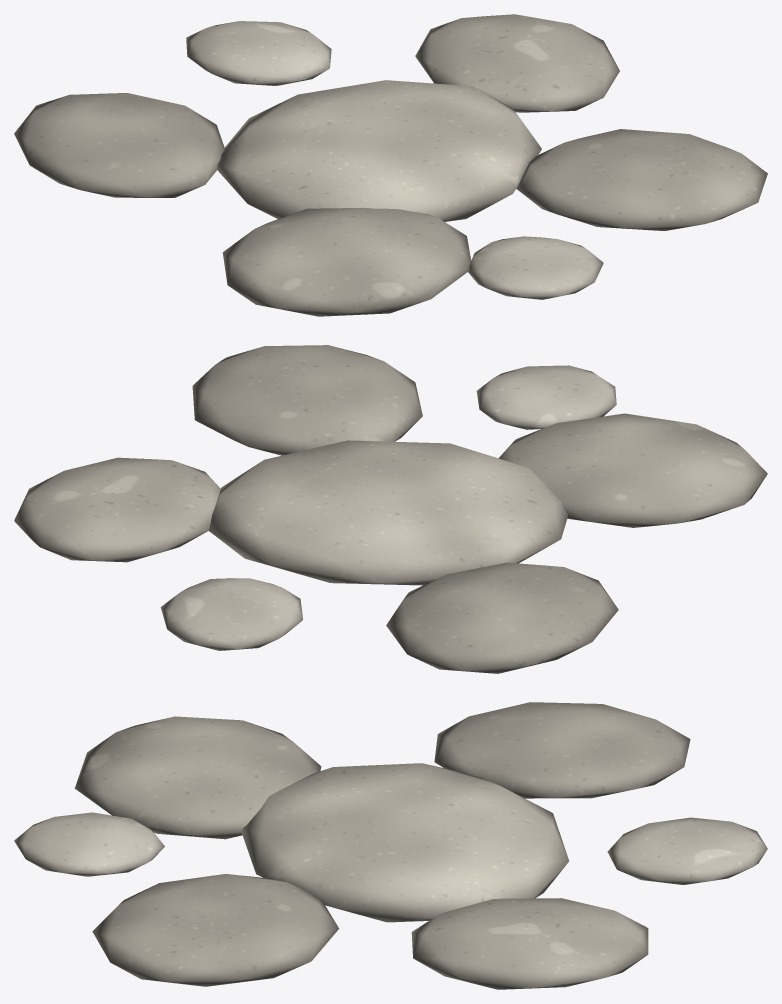
The model's file is stone_path.glb.
3 renders of one model, top to bottom at view 1: azimuth 30°, elevation 25°; view 2: azimuth 150°, elevation 25°; view 3: azimuth 270°, elevation 25°, orthographic. The views are drawn at different scales.
Visible parts, largest first — view 1: StonePath; view 2: StonePath; view 3: StonePath.
Part boxes in pixels (box(x1,y1,x2,y2)): StonePath: box(14, 14, 767, 316); StonePath: box(14, 345, 767, 673); StonePath: box(14, 702, 767, 989).
Size of the model in its own units: 0.8496 by 0.0769 by 0.9594.
Materials: 1 (1 with a texture image).
